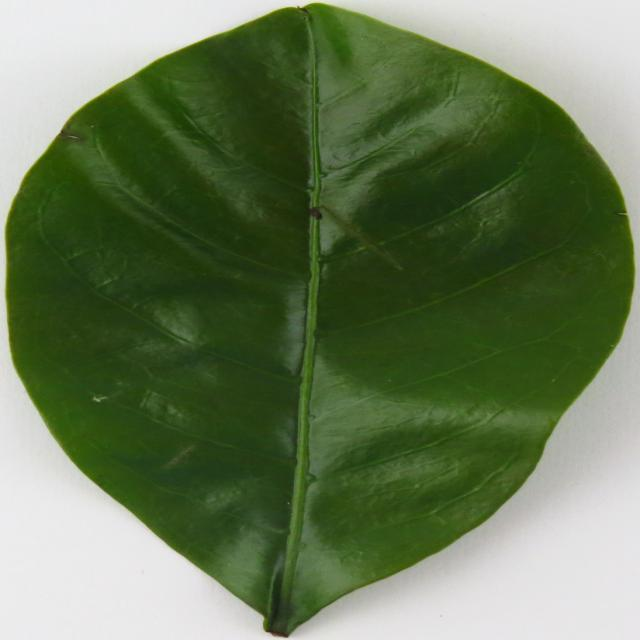DeficienciaNutricional-Boro: (7, 4, 632, 635)
